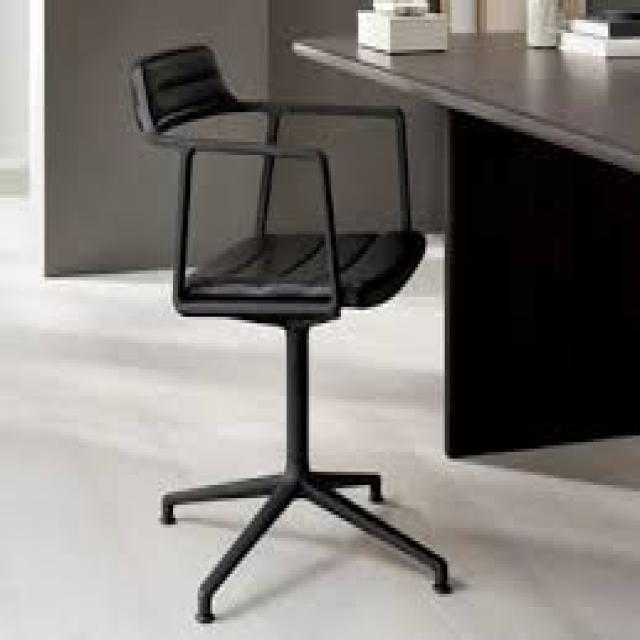chair: (68, 22, 473, 638)
